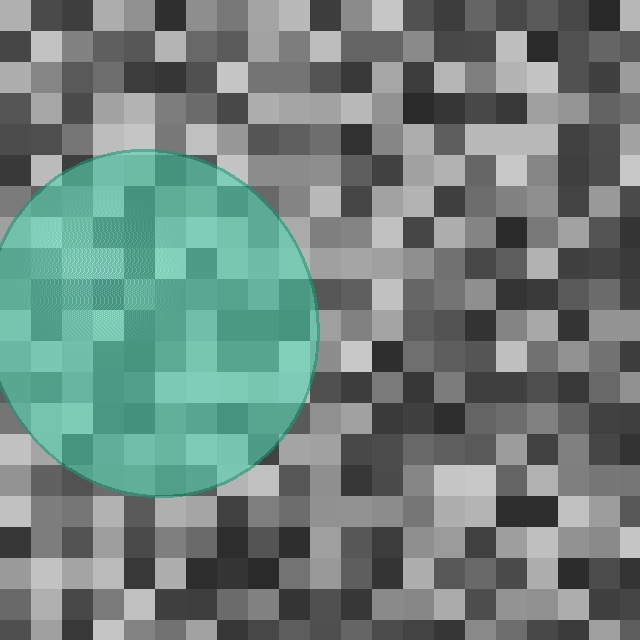lens: (0, 151, 317, 495)
